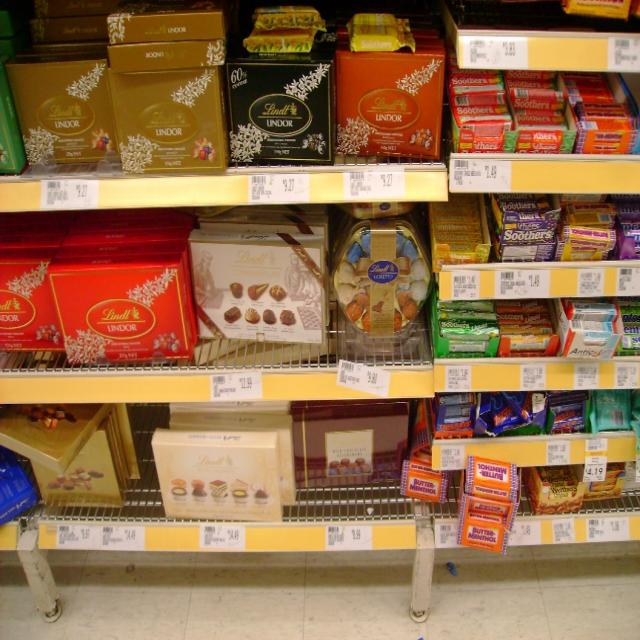q112: (106, 55, 225, 173), (7, 53, 112, 179)
q115: (227, 53, 335, 174)
